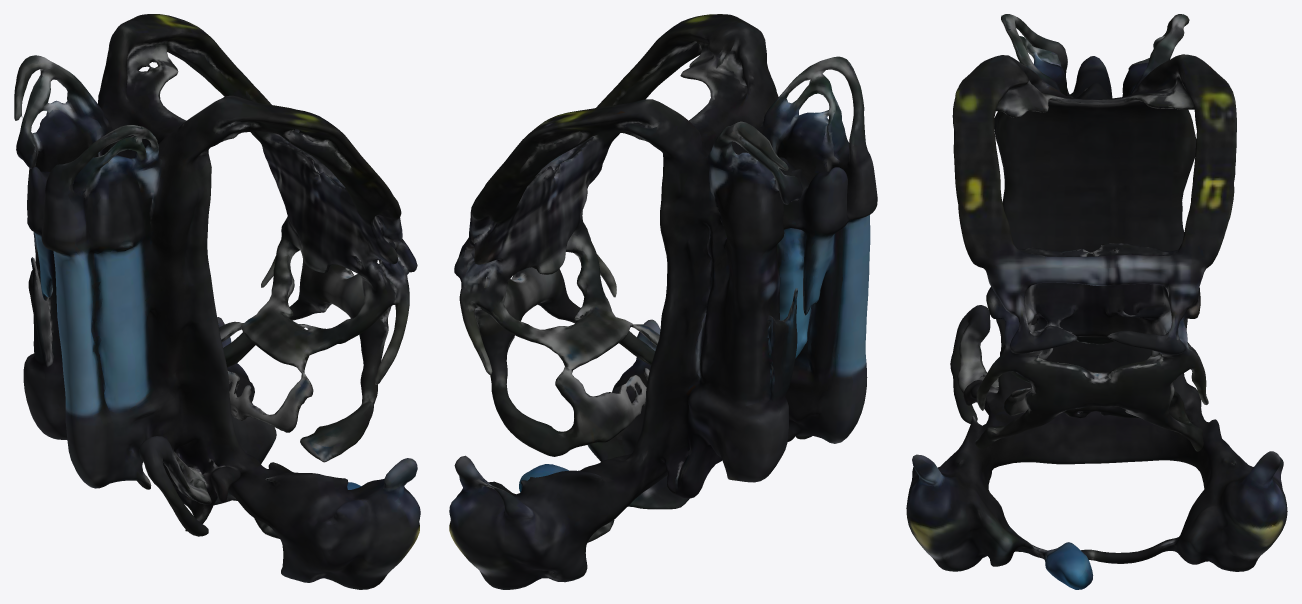
The model's file is Jetpack.fbx.
The picture shows the model from 3 angles, left to right: view 1: azimuth 30°, elevation 25°; view 2: azimuth 150°, elevation 25°; view 3: azimuth 270°, elevation 25°; orthographic projection. The views are drawn at different scales.
Parts seen in each view (by area): view 1: high_poly; view 2: high_poly; view 3: high_poly.
Boxes of the visible parts, left/top/right/bottom form: high_poly: left=14, top=14, right=420, bottom=589; high_poly: left=449, top=14, right=877, bottom=589; high_poly: left=906, top=14, right=1287, bottom=589.
Bounding box in the file's own units: 75.26 × 100 × 74.74.
